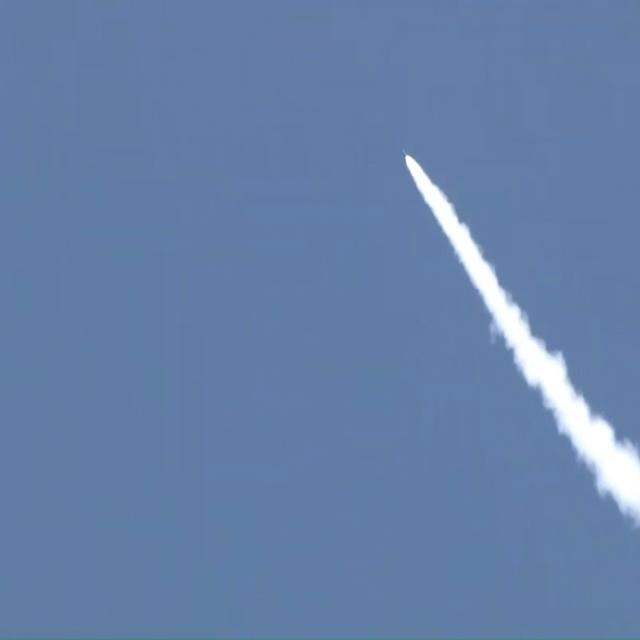Rocket: (402, 148, 409, 158)
